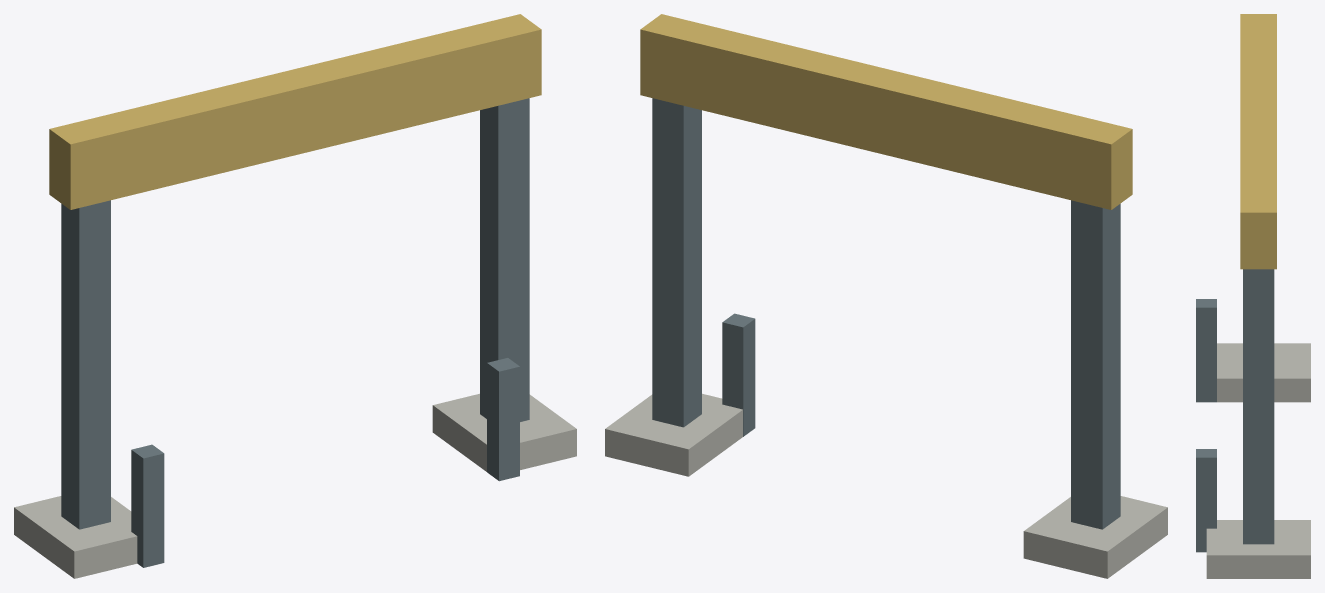
File: three-d-zombie-quarantine-streets-zombie-quarantine-streets-checkpoint-gate-b1b5f991.glb
The picture shows the model from 3 angles, left to right: view 1: azimuth 30°, elevation 25°; view 2: azimuth 150°, elevation 25°; view 3: azimuth 270°, elevation 25°; orthographic projection. The views are drawn at different scales.
Visible parts, largest first — view 1: checkpoint-gate; view 2: checkpoint-gate; view 3: checkpoint-gate.
Part boxes in pixels (bbox=[...]): checkpoint-gate: bbox=[14, 14, 576, 578]; checkpoint-gate: bbox=[605, 14, 1167, 578]; checkpoint-gate: bbox=[1196, 14, 1310, 578].
Bounding box in the file's own units: 4.8 × 3.8 × 1.1.
